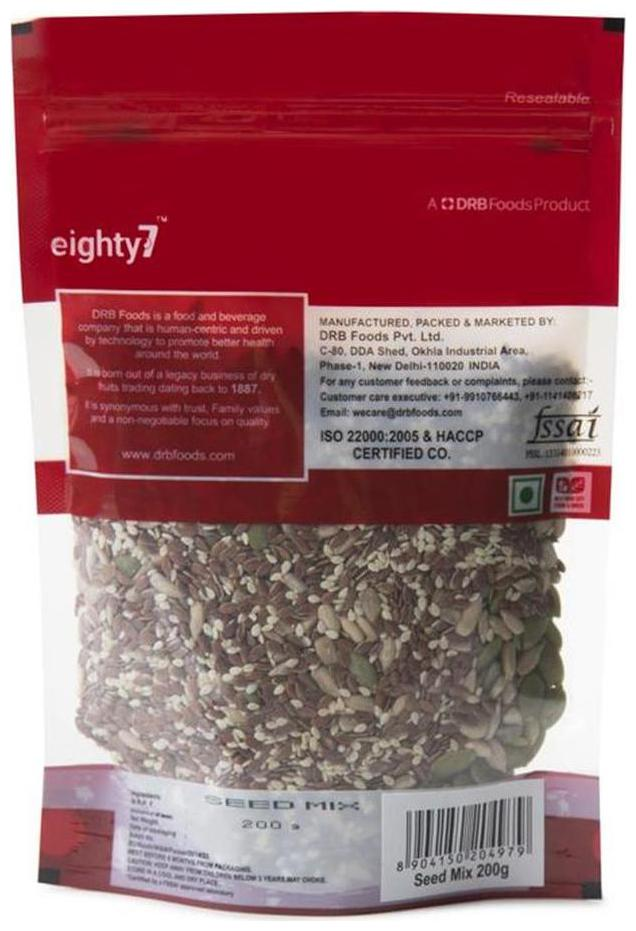fssai: (525, 404, 603, 446)
